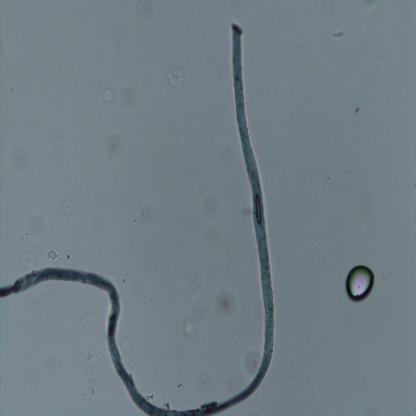Air bubble: (344, 264, 376, 304)
Background material: (198, 190, 221, 252), (26, 206, 48, 243), (215, 290, 237, 318), (81, 362, 98, 396), (62, 196, 79, 230), (106, 131, 123, 160), (168, 66, 186, 92), (247, 350, 261, 376), (328, 24, 348, 41), (20, 250, 36, 271), (182, 318, 196, 342), (98, 90, 116, 108), (44, 246, 57, 261), (354, 103, 360, 115)
Microfibre: (0, 18, 276, 415)
